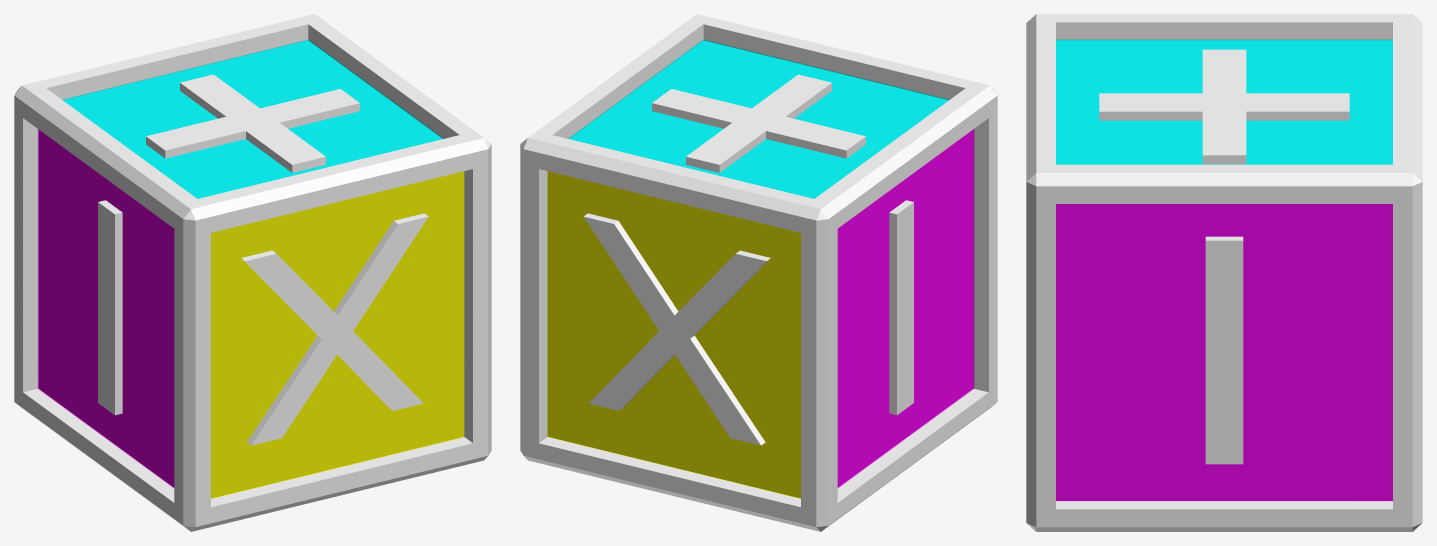
The model's file is player.fbx.
3 views of the same model, side by side, from view 1: azimuth 30°, elevation 25°; view 2: azimuth 150°, elevation 25°; view 3: azimuth 270°, elevation 25° (orthographic). The views are drawn at different scales.
Visible parts, largest first — view 1: Player; view 2: Player; view 3: Player.
Boxes of the visible parts, x1,y1,x2,y2 form: Player: [14, 14, 491, 531]; Player: [520, 14, 997, 531]; Player: [1026, 14, 1422, 531].
Bounding box in the file's own units: 200 × 200 × 200.
Materials: 1 (1 with a texture image).
